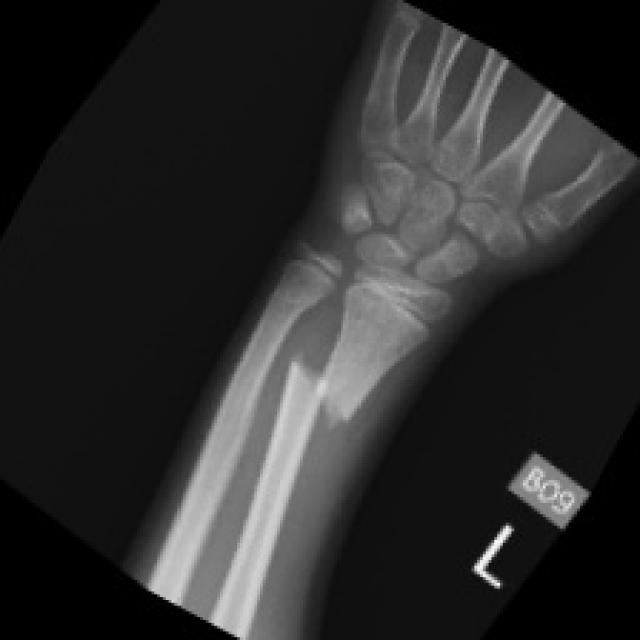fracture: (277, 351, 385, 457)
